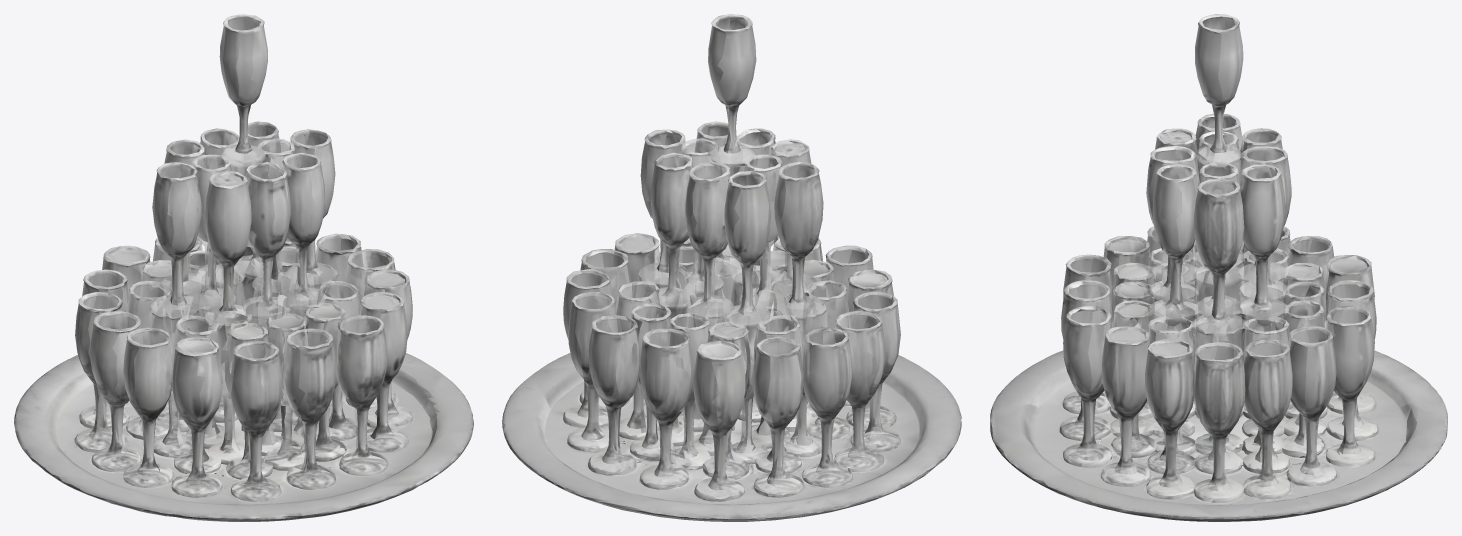
The model's file is aholo-20261119-champagne-glass-tower.glb.
3 views of the same model, side by side, from view 1: azimuth 30°, elevation 25°; view 2: azimuth 150°, elevation 25°; view 3: azimuth 270°, elevation 25° (orthographic).
Visible parts, largest first — view 1: geometry_0; view 2: geometry_0; view 3: geometry_0.
Part boxes in pixels (bbox=[...]): geometry_0: bbox=[14, 14, 473, 521]; geometry_0: bbox=[502, 14, 961, 521]; geometry_0: bbox=[990, 14, 1447, 521].
Bounding box in the file's own units: 0.58 × 0.5764 × 0.5803.
Materials: 1 (1 with a texture image).
